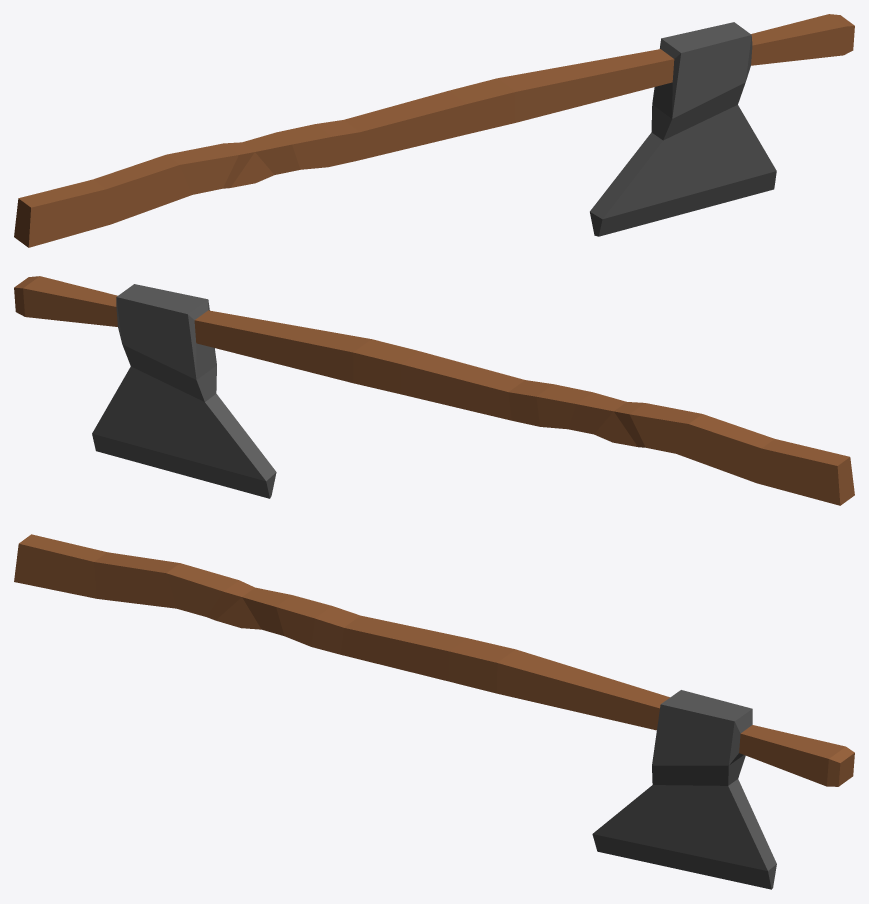
File: Axe.fbx
The picture shows the model from 3 angles, top to bottom: view 1: azimuth 30°, elevation 25°; view 2: azimuth 150°, elevation 25°; view 3: azimuth 330°, elevation 25°; orthographic projection.
Visible parts, largest first — view 1: Axe; view 2: Axe; view 3: Axe.
Part boxes in pixels (<box>): Axe: <box>14,14,854,247</box>; Axe: <box>14,276,854,505</box>; Axe: <box>14,534,854,889</box>.
Bounding box in the file's own units: 1.13 × 0.2358 × 0.0481.
